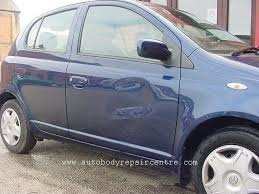Dent: (108, 76, 163, 118)
